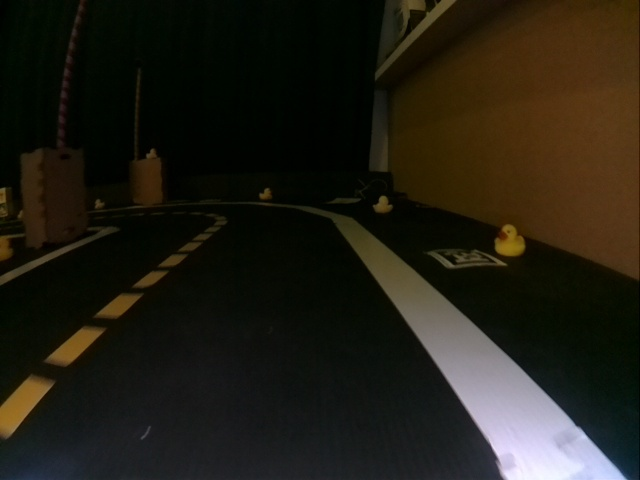Duckie: (496, 225, 526, 255), (374, 195, 392, 213), (2, 237, 12, 259), (259, 188, 272, 199), (95, 200, 104, 209), (146, 149, 156, 157)
QR code: (429, 249, 506, 269)
